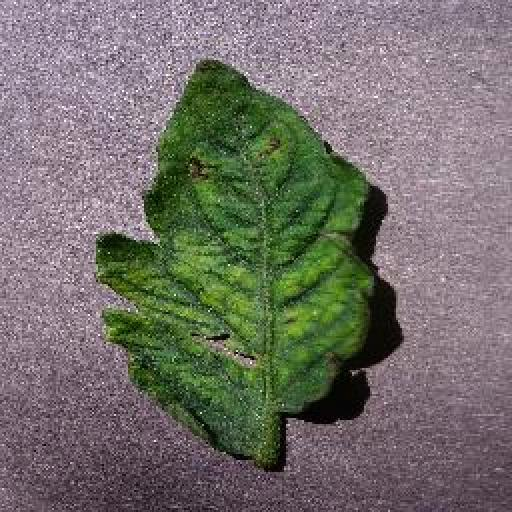disease_tomato: (92, 54, 378, 460)
